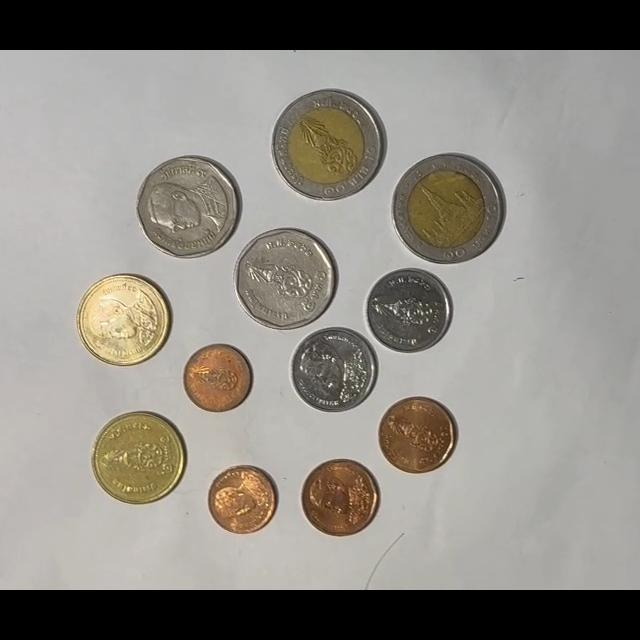1-baht: (290, 326, 378, 414), (365, 268, 453, 354)
10-baht: (272, 89, 386, 202), (391, 154, 504, 264)
2-baht: (91, 411, 187, 504), (77, 273, 170, 367)
25-satang: (208, 465, 279, 535), (184, 344, 253, 412)
5-baht: (136, 157, 240, 260), (234, 227, 337, 331)
50-satang: (301, 459, 380, 538), (378, 397, 457, 474)
